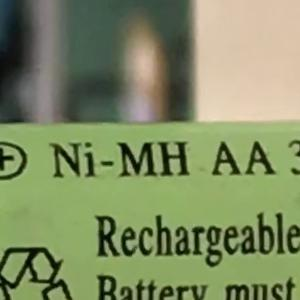keyword: (40, 132, 194, 188)
